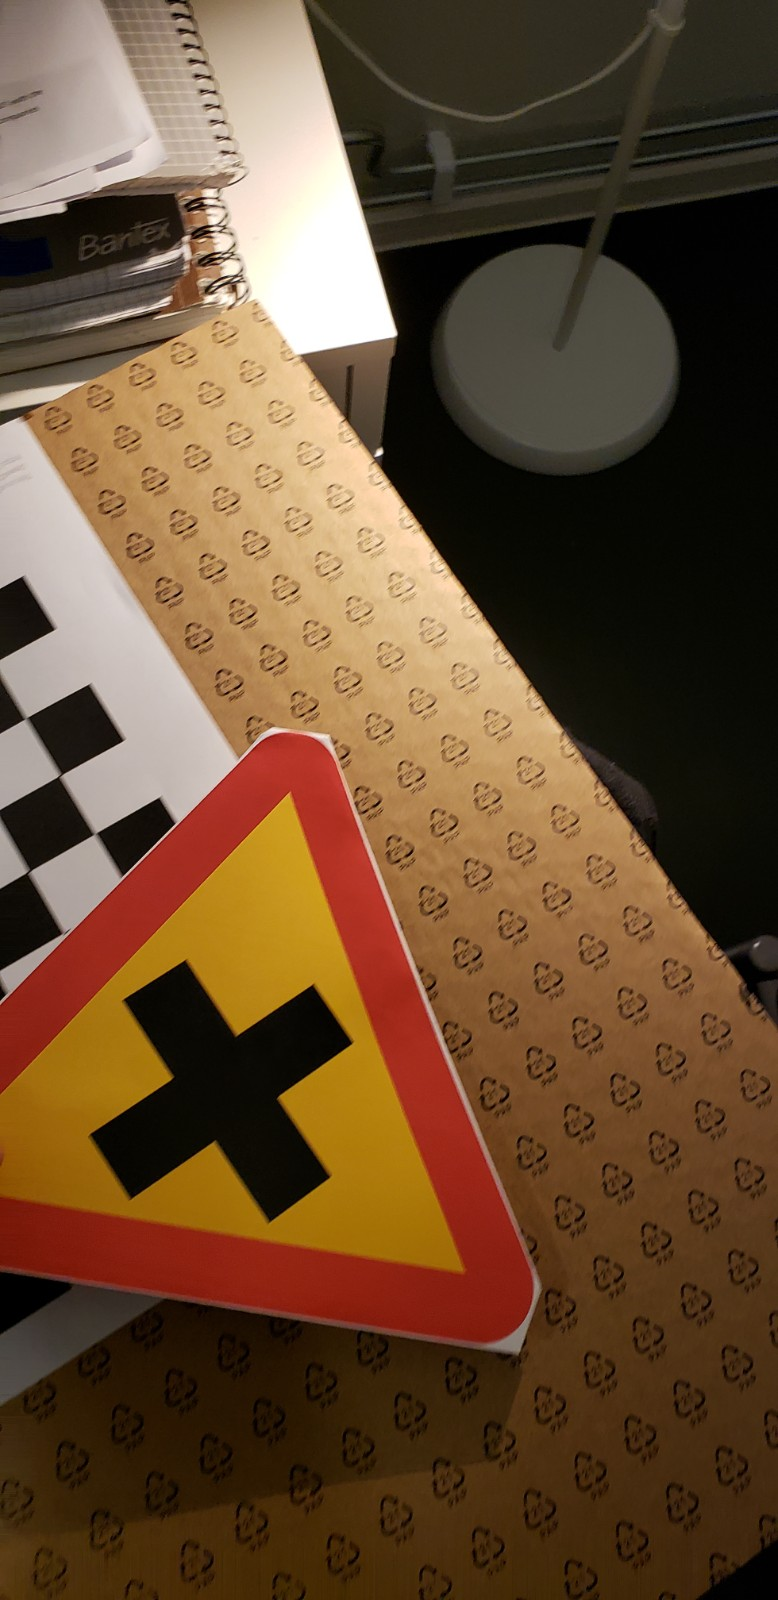junction: (8, 669, 601, 1392)
